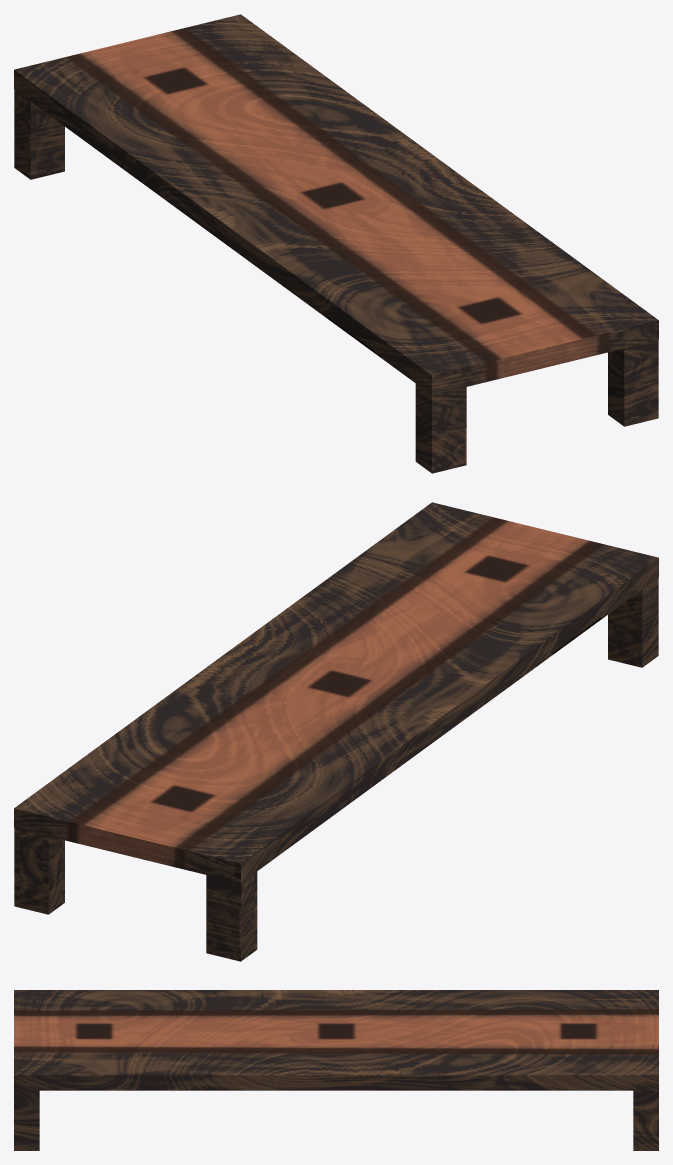
The model's file is ChairAnimated.gltf.
The picture shows the model from 3 angles, top to bottom: view 1: azimuth 30°, elevation 25°; view 2: azimuth 150°, elevation 25°; view 3: azimuth 270°, elevation 25°; orthographic projection. The views are drawn at different scales.
Parts seen in each view (by area): view 1: Cube.002; view 2: Cube.002; view 3: Cube.002.
Part boxes in pixels (x1=…): Cube.002: x1=14, y1=14, x2=658, y2=473; Cube.002: x1=14, y1=502, x2=658, y2=961; Cube.002: x1=14, y1=990, x2=658, y2=1150.
Size of the model in its own units: 2.67 by 1.1 by 8.52.
1 material, 1 textured.
